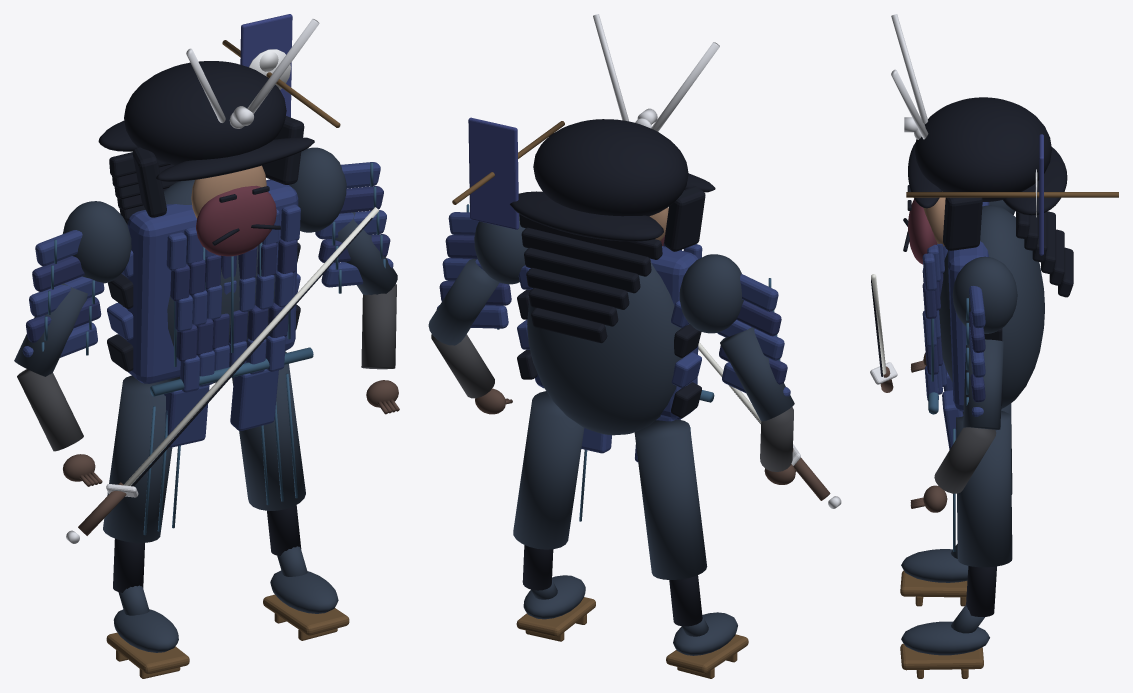
Rendered from uesugi-01.glb.
3 views of the same model, side by side, from view 1: azimuth 30°, elevation 25°; view 2: azimuth 150°, elevation 25°; view 3: azimuth 270°, elevation 25° (orthographic). The views are drawn at different scales.
Visible parts, largest first — view 1: kabuto_helmet_bowl, do_cuirass_core, left_hakama_outer_fold, right_hakama_outer_fold, mempo_cheek_mask, left_rounded_shoulder_undercloth, right_rounded_shoulder_undercloth, left_forearm_kote, helmet_front_brim, right_forearm_kote, left_upper_arm_cloth, kusazuri_front_right (+50 smaller); view 2: cloth_torso_underlayer, kabuto_helmet_bowl, left_hakama_outer_fold, right_hakama_outer_fold, banner_cloth, left_rounded_shoulder_undercloth, helmet_rear_flare, left_upper_arm_cloth, right_upper_arm_cloth, shikoro_neck_guard_1, right_rounded_shoulder_undercloth, shikoro_neck_guard_2 (+26 smaller); view 3: kabuto_helmet_bowl, cloth_torso_underlayer, right_hakama_outer_fold, right_rounded_shoulder_undercloth, right_upper_arm_cloth, right_forearm_kote, do_cuirass_core, right_tabi_sock, right_fukigaeshi_flare, left_tabi_sock, helmet_rear_flare, right_geta_sole (+21 smaller).
Part boxes in pixels (x1,y1,x2,y2): kabuto_helmet_bowl: [124, 61, 286, 165]; do_cuirass_core: [126, 179, 298, 383]; left_hakama_outer_fold: [103, 375, 172, 542]; right_hakama_outer_fold: [232, 351, 305, 510]; mempo_cheek_mask: [196, 185, 276, 256]; left_rounded_shoulder_undercloth: [63, 201, 131, 283]; right_rounded_shoulder_undercloth: [289, 147, 346, 232]; left_forearm_kote: [17, 369, 83, 451]; helmet_front_brim: [156, 137, 314, 181]; right_forearm_kote: [361, 284, 396, 369]; left_upper_arm_cloth: [14, 283, 87, 376]; kusazuri_front_right: [230, 369, 278, 430]; cloth_torso_underlayer: [527, 261, 683, 435]; kabuto_helmet_bowl: [533, 119, 688, 216]; left_hakama_outer_fold: [634, 419, 707, 579]; right_hakama_outer_fold: [513, 391, 584, 549]; banner_cloth: [468, 117, 519, 229]; left_rounded_shoulder_undercloth: [679, 254, 743, 333]; helmet_rear_flare: [510, 191, 663, 241]; left_upper_arm_cloth: [720, 327, 794, 421]; right_upper_arm_cloth: [428, 258, 499, 345]; shikoro_neck_guard_1: [521, 227, 651, 276]; right_rounded_shoulder_undercloth: [474, 214, 527, 284]; shikoro_neck_guard_2: [524, 248, 640, 293]; kabuto_helmet_bowl: [914, 97, 1051, 201]; cloth_torso_underlayer: [939, 205, 1044, 408]; right_hakama_outer_fold: [956, 411, 1012, 567]; right_rounded_shoulder_undercloth: [952, 256, 1017, 333]; right_upper_arm_cloth: [963, 339, 1003, 430]; right_forearm_kote: [934, 427, 996, 493]; do_cuirass_core: [948, 202, 989, 411]; right_tabi_sock: [901, 621, 989, 655]; right_fukigaeshi_flare: [943, 197, 982, 250]; left_tabi_sock: [901, 549, 968, 582]; helmet_rear_flare: [1003, 147, 1067, 215]; right_geta_sole: [900, 643, 983, 670].
Bounding box in the file's own units: 1.19 × 1.91 × 0.7252.
